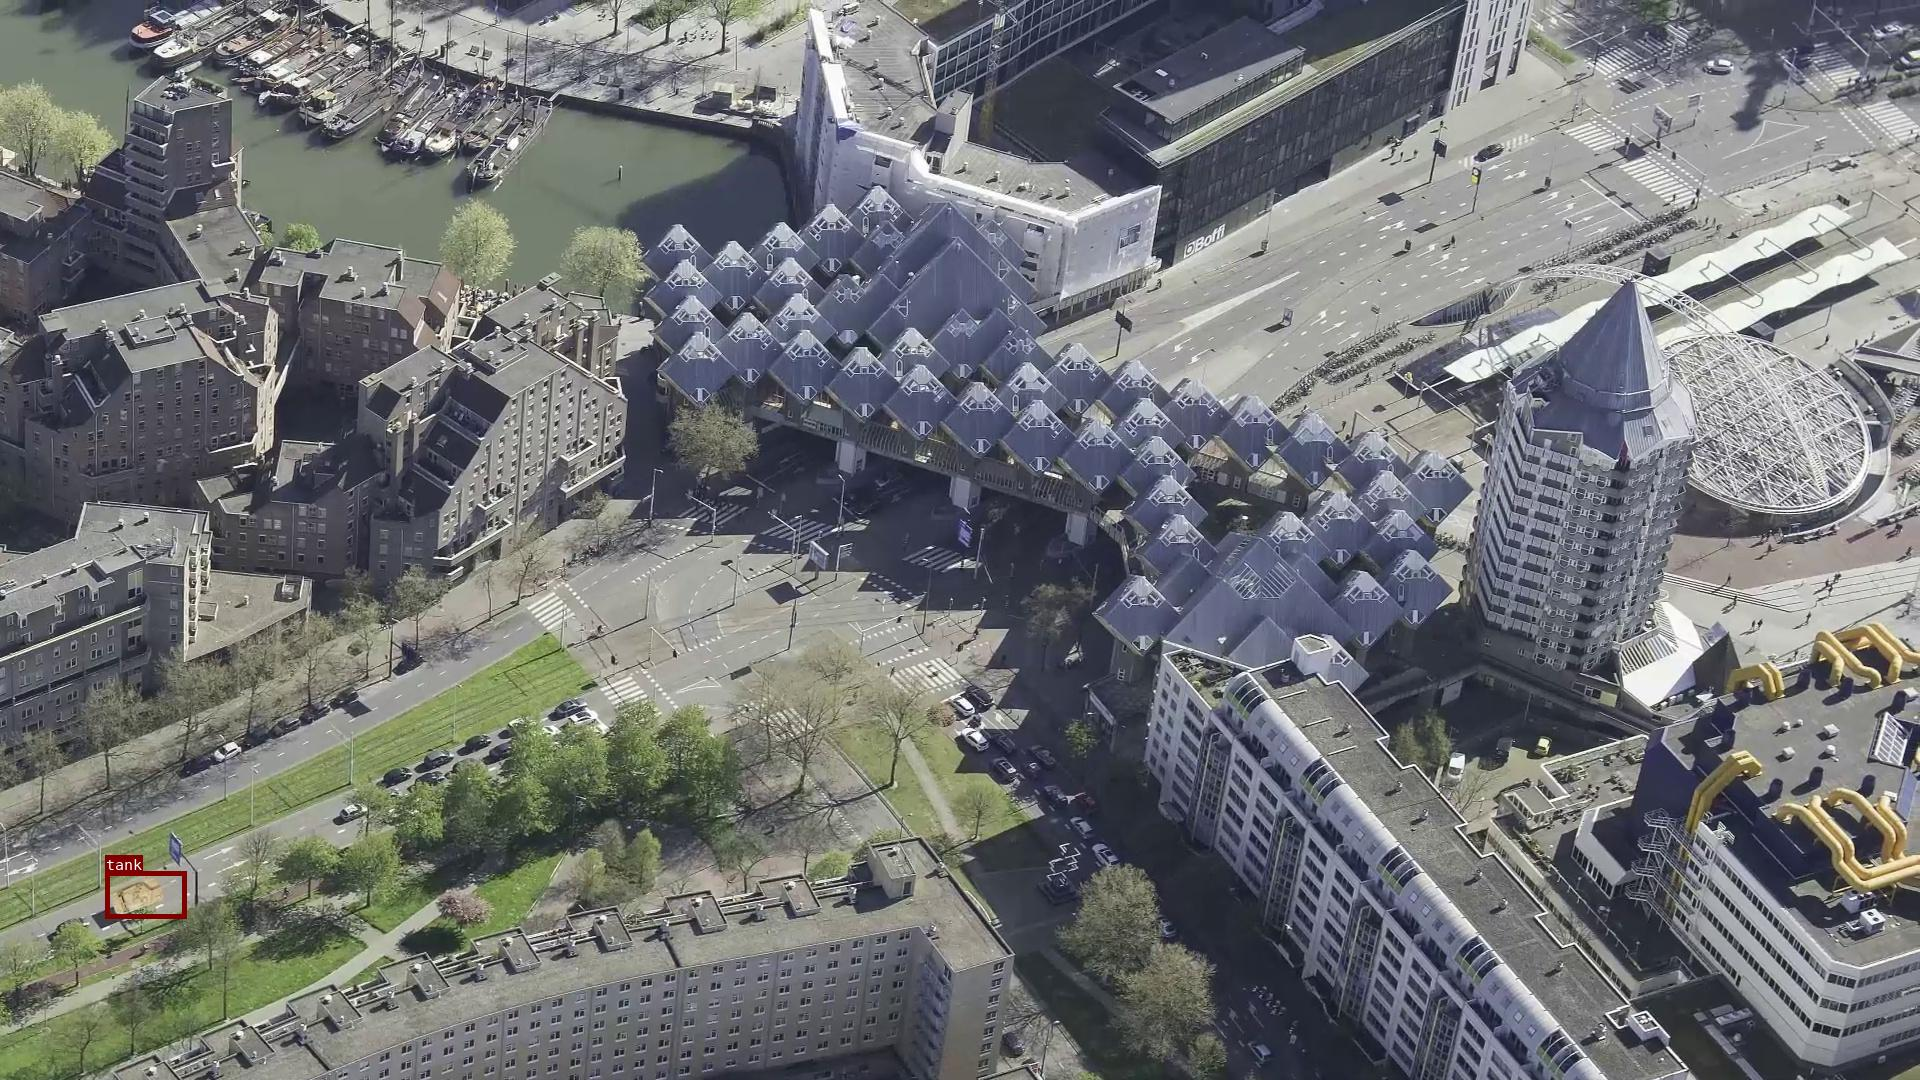tank: (105, 872, 186, 918)
